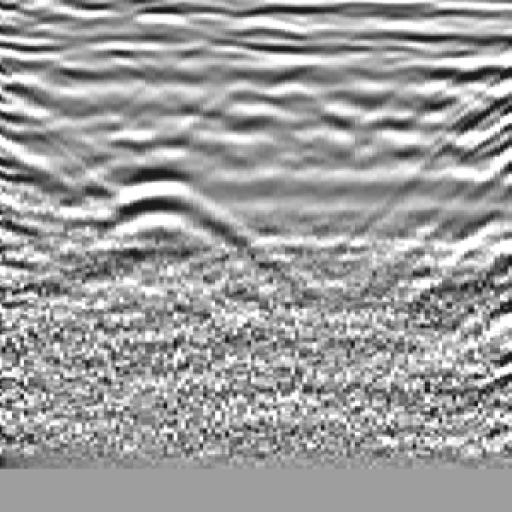metalic: (84, 37, 257, 288)
nonmetalic: (404, 45, 512, 274)
